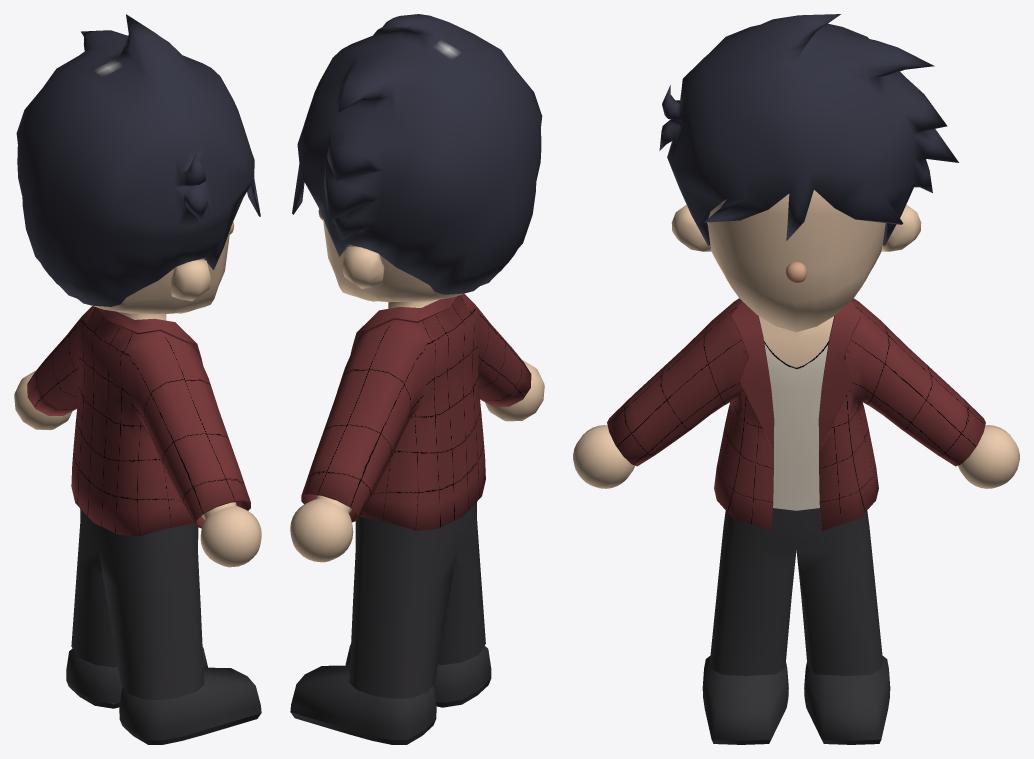
Rendered from Barry_New.fbx.
3 renders of one model, left to right at view 1: azimuth 30°, elevation 25°; view 2: azimuth 150°, elevation 25°; view 3: azimuth 270°, elevation 25°, orthographic. The views are drawn at different scales.
Parts seen in each view (by area): view 1: Barry, jacket; view 2: Barry, jacket; view 3: Barry, jacket.
Part boxes in pixels (x1,y1,x2,y2): Barry: (14, 14, 261, 744); jacket: (27, 306, 250, 536); Barry: (290, 14, 544, 744); jacket: (301, 294, 531, 530); Barry: (573, 14, 1019, 744); jacket: (607, 298, 985, 530).
Bounding box in the file's own units: 102 × 329 × 192.
Materials: 2 (2 with a texture image).
